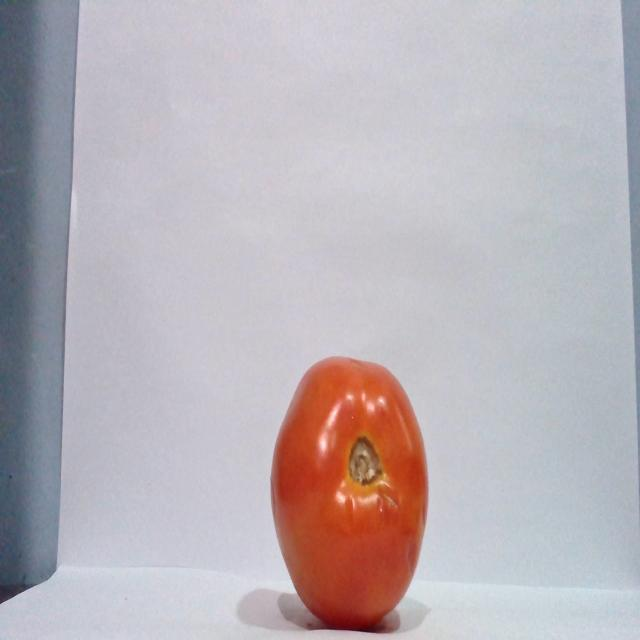Red: (268, 354, 429, 629)
